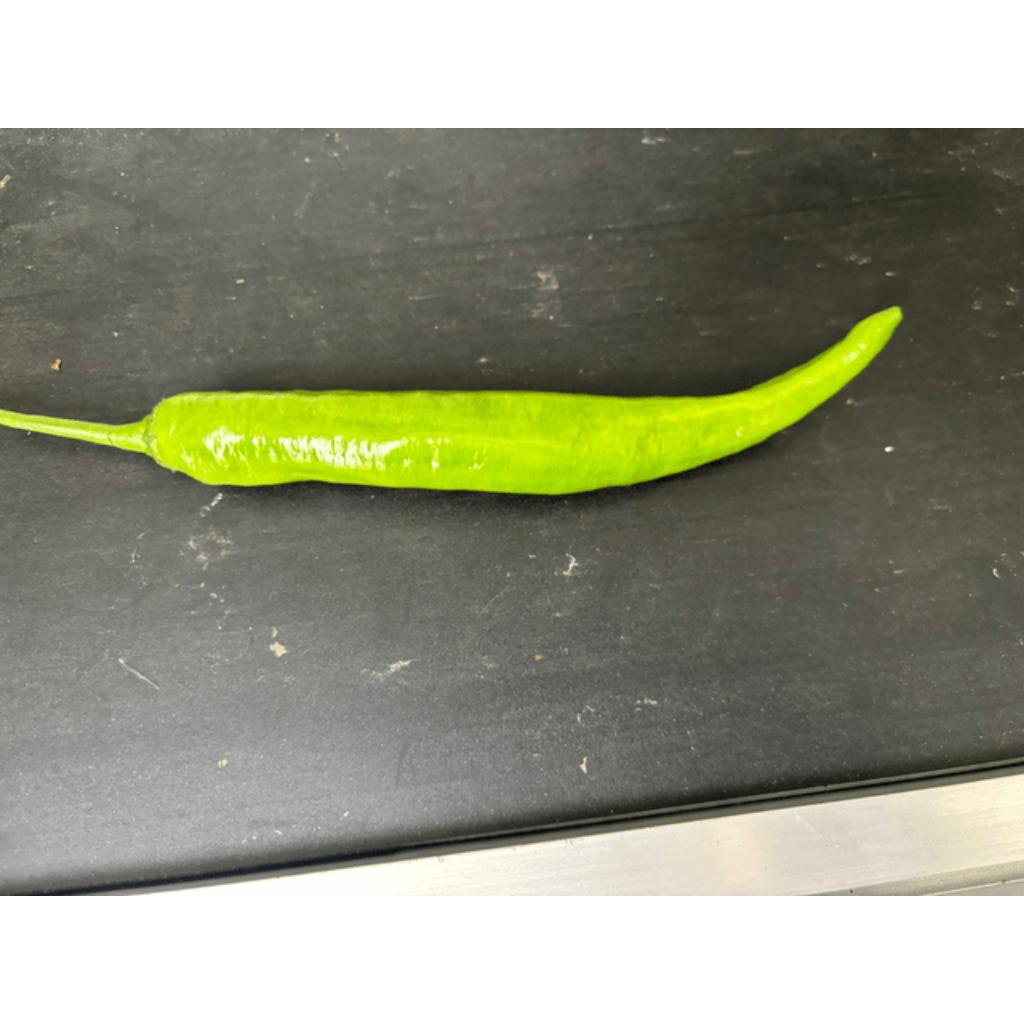chili: (148, 302, 907, 497)
